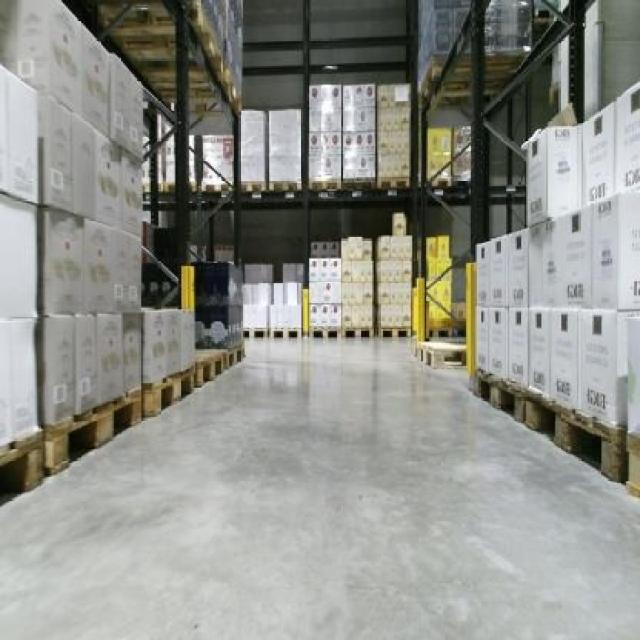floor: (0, 338, 637, 637)
pallets: (474, 80, 637, 477)
